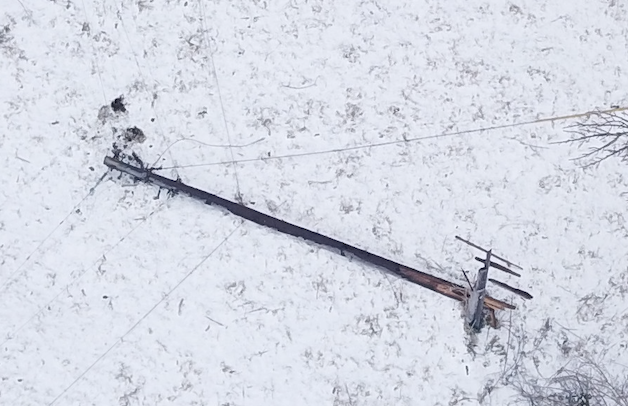pole: (57, 111, 542, 343)
